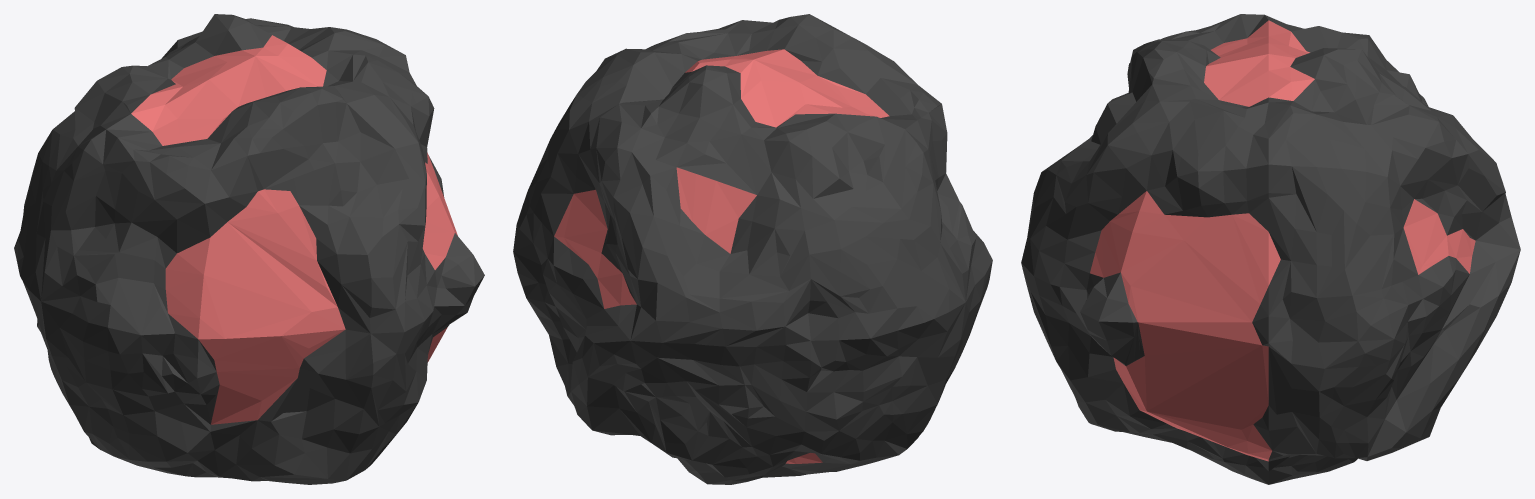
Rendered from MagmaBall.fbx.
3 views of the same model, side by side, from view 1: azimuth 30°, elevation 25°; view 2: azimuth 150°, elevation 25°; view 3: azimuth 270°, elevation 25° (orthographic). The views are drawn at different scales.
Visible parts, largest first — view 1: MagmaBall; view 2: MagmaBall; view 3: MagmaBall.
Boxes of the visible parts, left/top/right/bottom form: MagmaBall: left=14, top=14, right=484, bottom=484; MagmaBall: left=513, top=14, right=992, bottom=484; MagmaBall: left=1021, top=14, right=1520, bottom=484.
Size of the model in its own units: 3.78 by 3.8 by 3.94.
